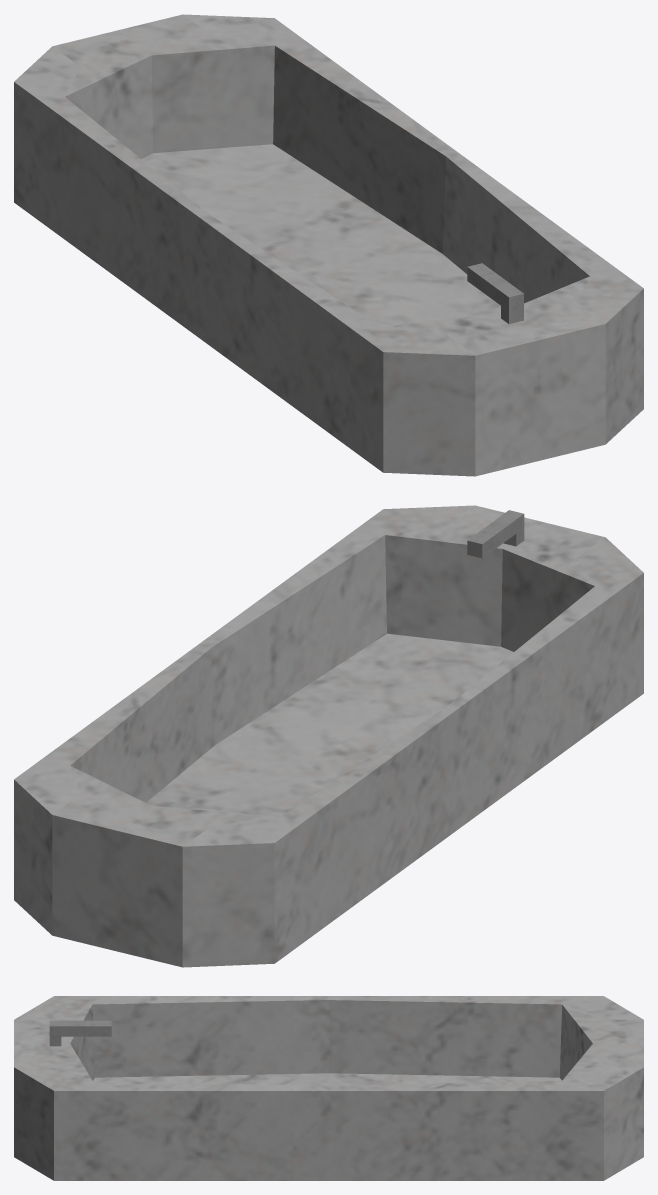
File: Bathtub.fbx
3 renders of one model, top to bottom at view 1: azimuth 30°, elevation 25°; view 2: azimuth 150°, elevation 25°; view 3: azimuth 270°, elevation 25°, orthographic. The views are drawn at different scales.
Visible parts, largest first — view 1: Cube, Cube.001; view 2: Cube, Cube.001; view 3: Cube, Cube.001.
Boxes of the visible parts, x1=… form: Cube: x1=14, y1=14, x2=643, y2=476; Cube.001: x1=467, y1=263, x2=523, y2=323; Cube: x1=14, y1=505, x2=643, y2=967; Cube.001: x1=467, y1=510, x2=524, y2=558; Cube: x1=14, y1=996, x2=643, y2=1180; Cube.001: x1=49, y1=1020, x2=111, y2=1046.
Size of the model in its own units: 329 by 178 by 924.
